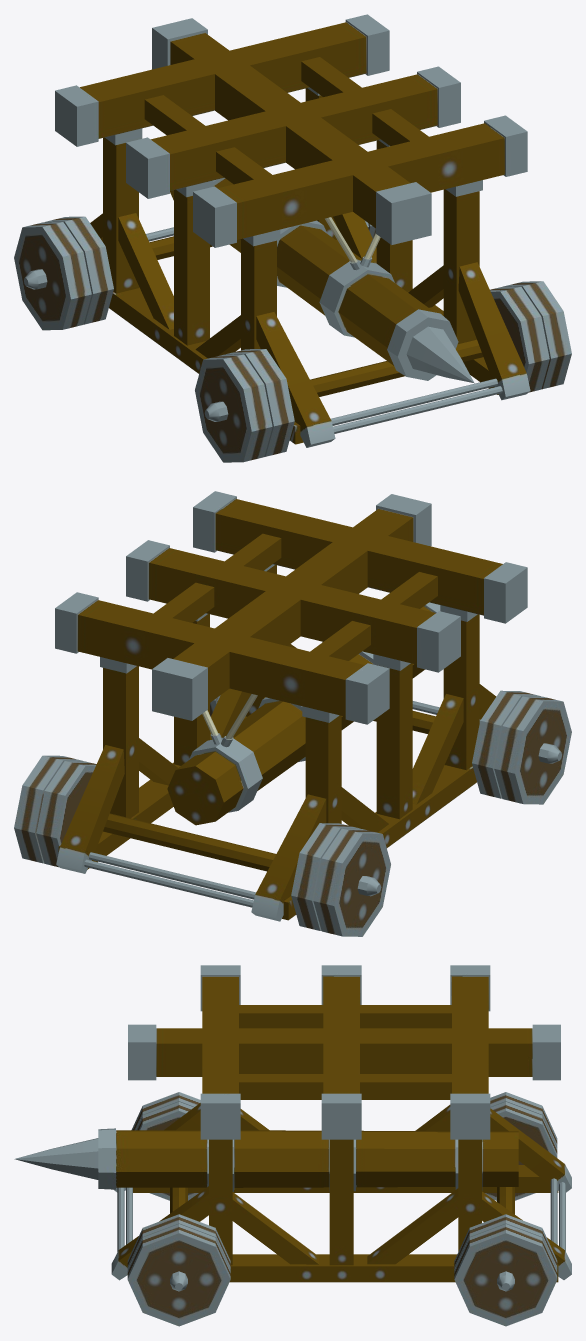
The picture shows the model from 3 angles, top to bottom: view 1: azimuth 30°, elevation 25°; view 2: azimuth 150°, elevation 25°; view 3: azimuth 270°, elevation 25°; orthographic projection. The views are drawn at different scales.
Visible parts, largest first — view 1: Geode; view 2: Geode; view 3: Geode.
Part boxes in pixels (x1,y1,x2,y2): Geode: [14, 14, 571, 462]; Geode: [14, 491, 571, 936]; Geode: [14, 965, 571, 1326].
Bounding box in the file's own units: 1.32 × 0.8792 × 2.
Materials: 1 (1 with a texture image).
